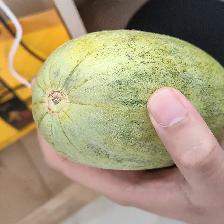gua: (48, 39, 204, 150)
